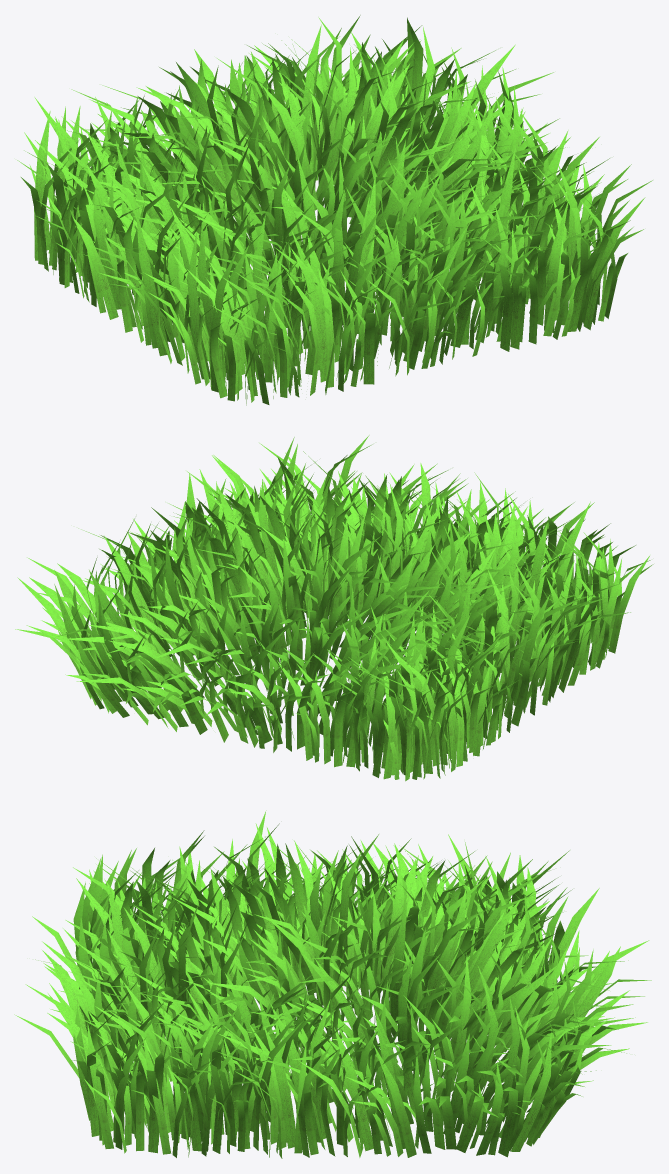
File: Grass Bl.gltf
3 views of the same model, one above another, from view 1: azimuth 30°, elevation 25°; view 2: azimuth 150°, elevation 25°; view 3: azimuth 270°, elevation 25° (orthographic). The views are drawn at different scales.
Parts seen in each view (by area): view 1: Object_grass2.jpg; view 2: Object_grass2.jpg; view 3: Object_grass2.jpg.
Part boxes in pixels (x1=…): Object_grass2.jpg: x1=17, y1=15, x2=652, y2=405; Object_grass2.jpg: x1=15, y1=435, x2=653, y2=781; Object_grass2.jpg: x1=14, y1=810, x2=651, y2=1158.
Bounding box in the file's own units: 25 × 8.82 × 24.99.
Materials: 1 (1 with a texture image).
